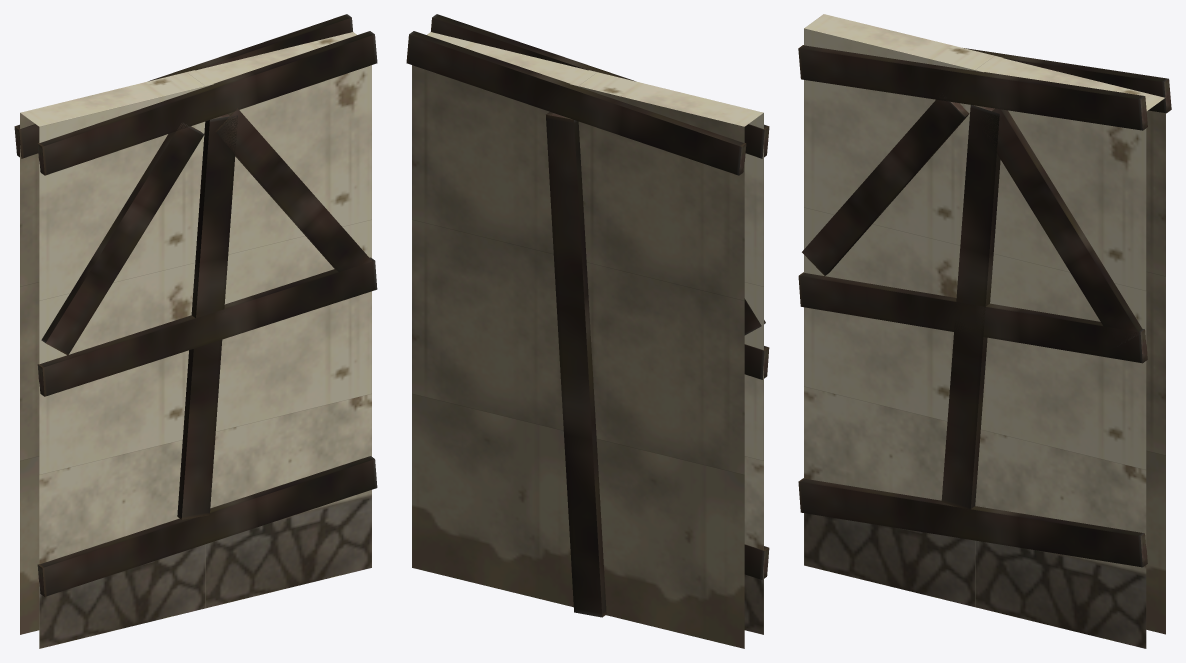
Rendered from wall_timber.obj.
3 renders of one model, left to right at view 1: azimuth 30°, elevation 25°; view 2: azimuth 150°, elevation 25°; view 3: azimuth 330°, elevation 25°, orthographic. The views are drawn at different scales.
Visible parts, largest first — view 1: wall_timber, wall_timber_1, wall_timber_2; view 2: wall_timber, wall_timber_2, wall_timber_1; view 3: wall_timber, wall_timber_1, wall_timber_2.
Part boxes in pixels (box(x1,y1,x2,y2)): wall_timber: box(20, 32, 371, 648); wall_timber_1: box(37, 31, 377, 596); wall_timber_2: box(14, 14, 352, 158); wall_timber: box(412, 32, 763, 648); wall_timber_2: box(406, 31, 746, 617); wall_timber_1: box(431, 14, 769, 579); wall_timber: box(804, 14, 1165, 648); wall_timber_1: box(798, 45, 1147, 567); wall_timber_2: box(964, 48, 1171, 113).
Size of the model in its own units: 2.02 by 3.09 by 0.29.
1 material, 1 textured.
